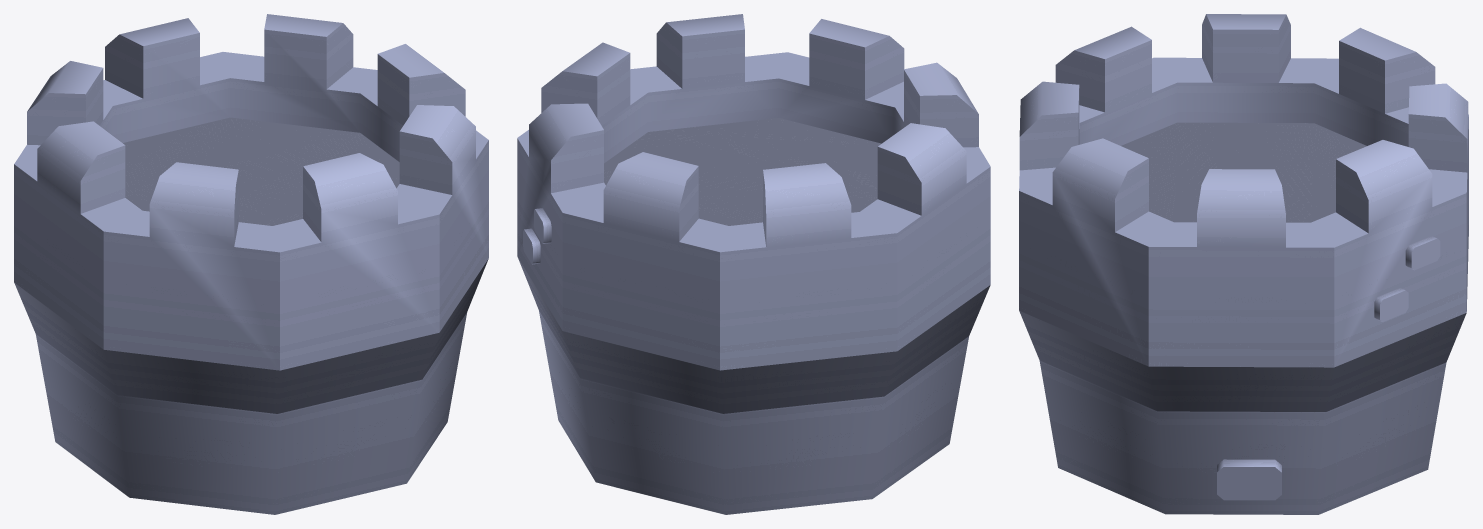
The model's file is tower-top.002_lev2.glb.
The picture shows the model from 3 angles, left to right: view 1: azimuth 30°, elevation 25°; view 2: azimuth 150°, elevation 25°; view 3: azimuth 270°, elevation 25°; orthographic projection.
Visible parts, largest first — view 1: tower-top.002_lev2; view 2: tower-top.002_lev2; view 3: tower-top.002_lev2.
Boxes of the visible parts, <box> form: tower-top.002_lev2: <box>14,14,488,514</box>; tower-top.002_lev2: <box>517,14,990,514</box>; tower-top.002_lev2: <box>1019,14,1468,514</box>.
Bounding box in the file's own units: 7.35 × 6.08 × 7.35.
1 material, 1 textured.
